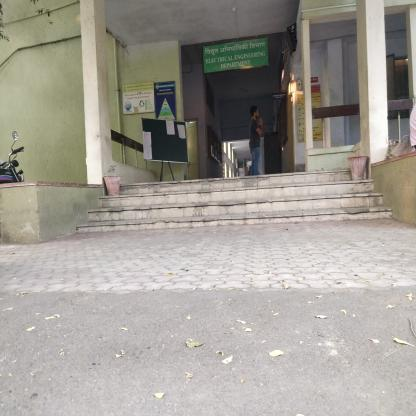stairs: (123, 183, 357, 228)
